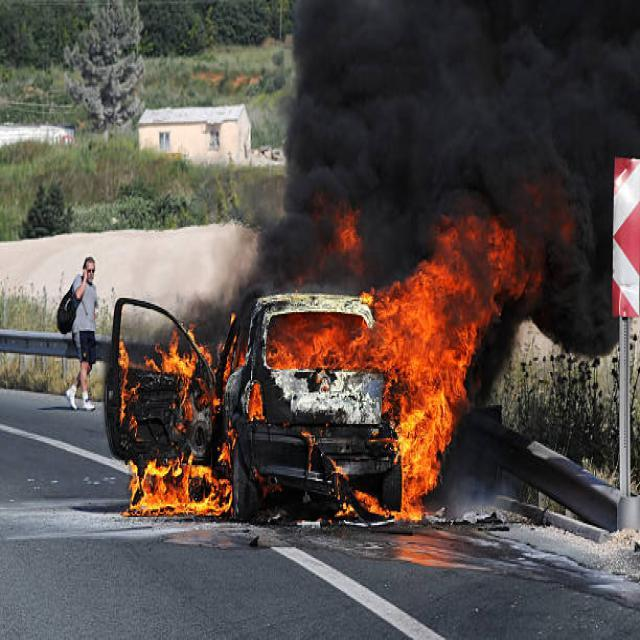Fire: (265, 188, 531, 529), (120, 306, 263, 516), (266, 313, 371, 367)
Smoke: (165, 0, 640, 413)
